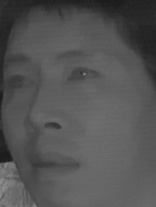eye: (67, 62, 99, 86), (3, 73, 35, 93)
mouth: (24, 148, 80, 182)
